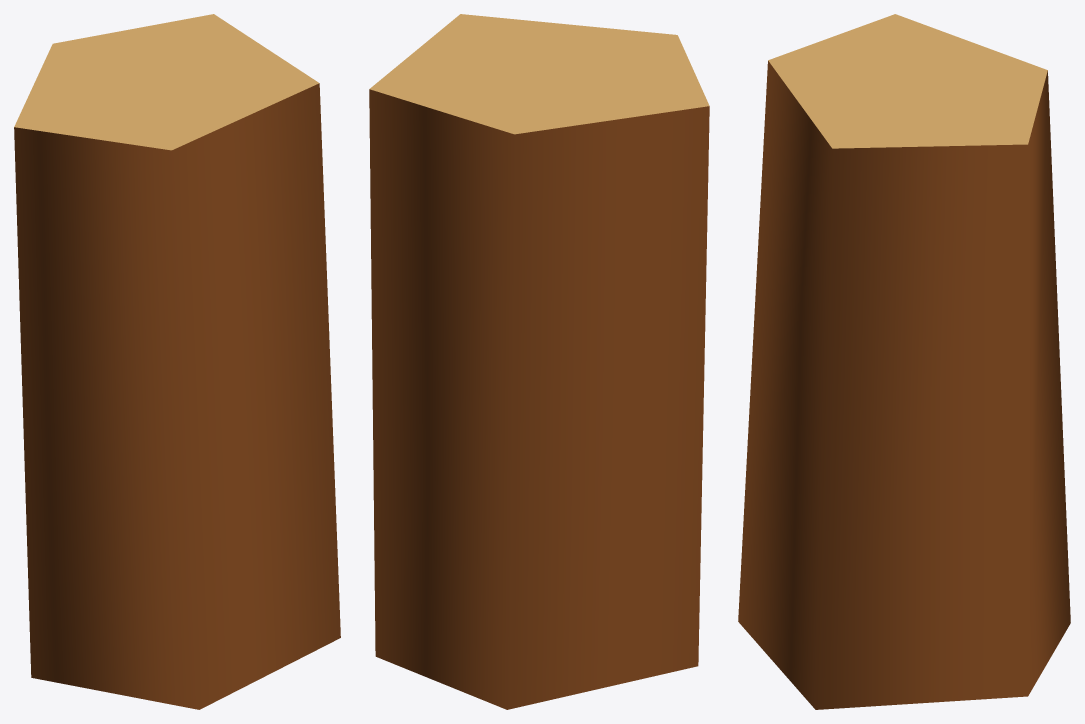
Rendered from TrunkF.fbx.
3 views of the same model, side by side, from view 1: azimuth 30°, elevation 25°; view 2: azimuth 150°, elevation 25°; view 3: azimuth 270°, elevation 25° (orthographic). The views are drawn at different scales.
Parts seen in each view (by area): view 1: TrunkF; view 2: TrunkF; view 3: TrunkF.
Part boxes in pixels (bbox=[...]): TrunkF: bbox=[14, 14, 340, 709]; TrunkF: bbox=[369, 14, 709, 709]; TrunkF: bbox=[738, 14, 1070, 709].
Size of the model in its own units: 47.19 by 86.64 by 47.07.
